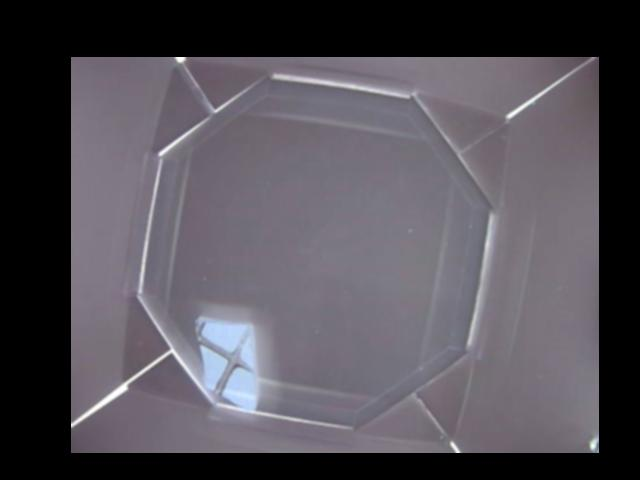China: (198, 318, 255, 411)
